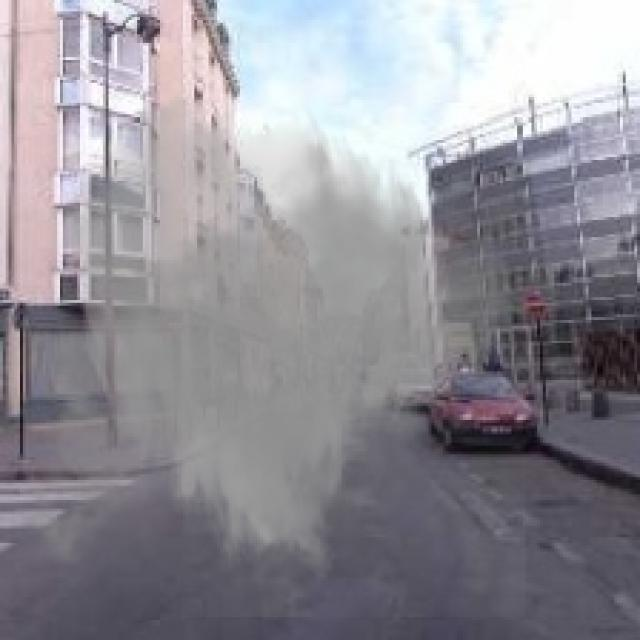smoke: (11, 92, 526, 617)
